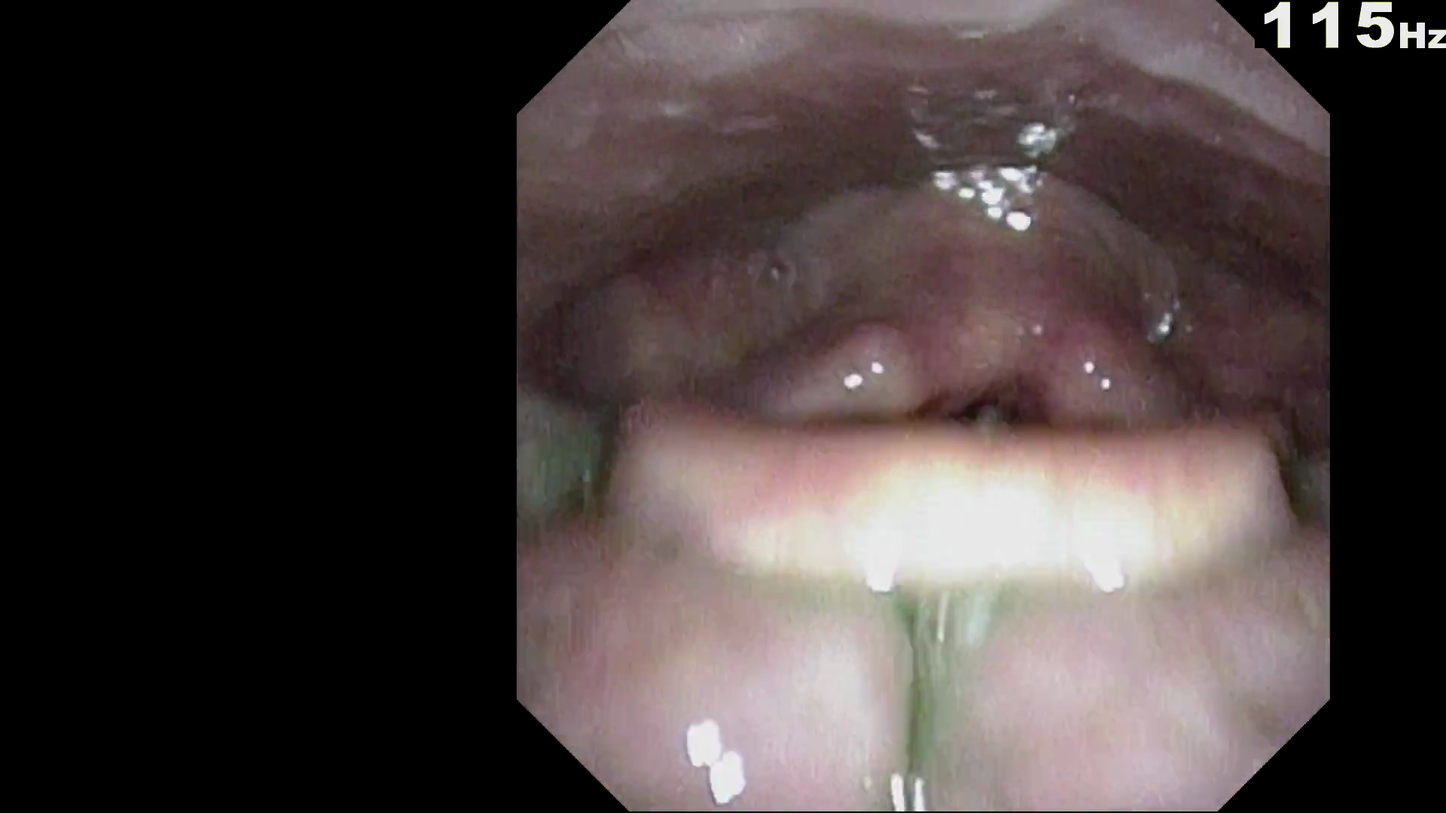epiglottis: (596, 344, 1302, 621)
trachea: (941, 344, 1050, 466)
